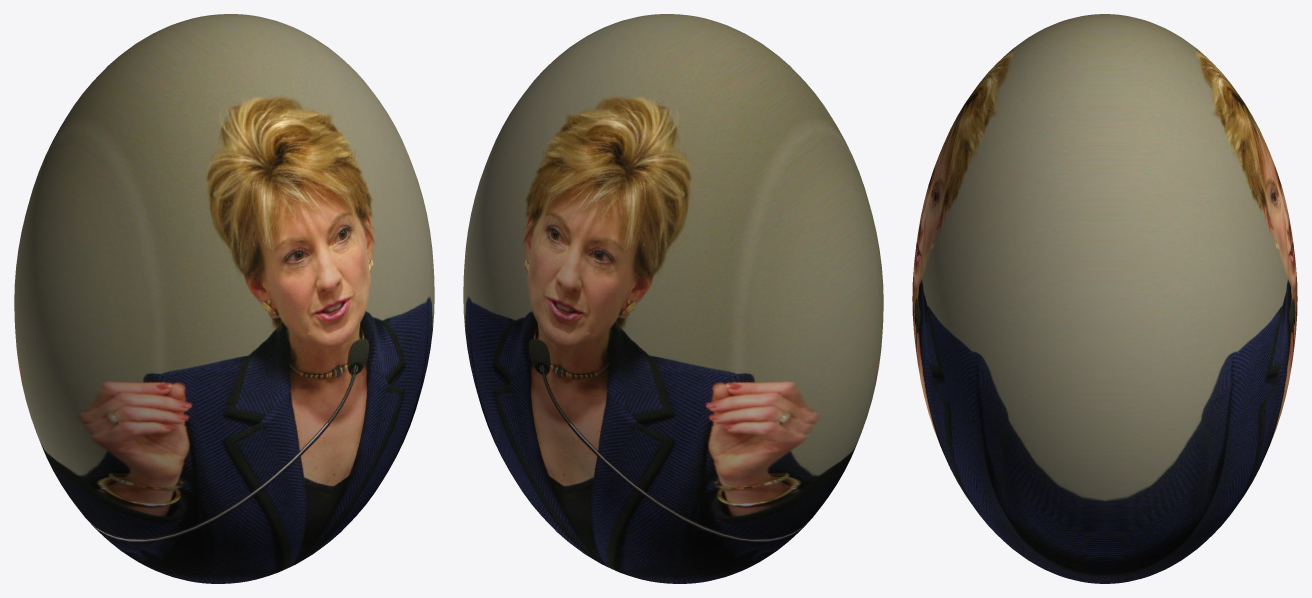
The picture shows the model from 3 angles, left to right: view 1: azimuth 30°, elevation 25°; view 2: azimuth 150°, elevation 25°; view 3: azimuth 270°, elevation 25°; orthographic projection.
Visible parts, largest first — view 1: head; view 2: head; view 3: head.
Boxes of the visible parts, x1=… form: head: x1=14, y1=14, x2=434, y2=583; head: x1=463, y1=14, x2=883, y2=583; head: x1=912, y1=14, x2=1297, y2=583.
Size of the model in its own units: 1.43 by 2 by 1.29.
Materials: 1 (1 with a texture image).
